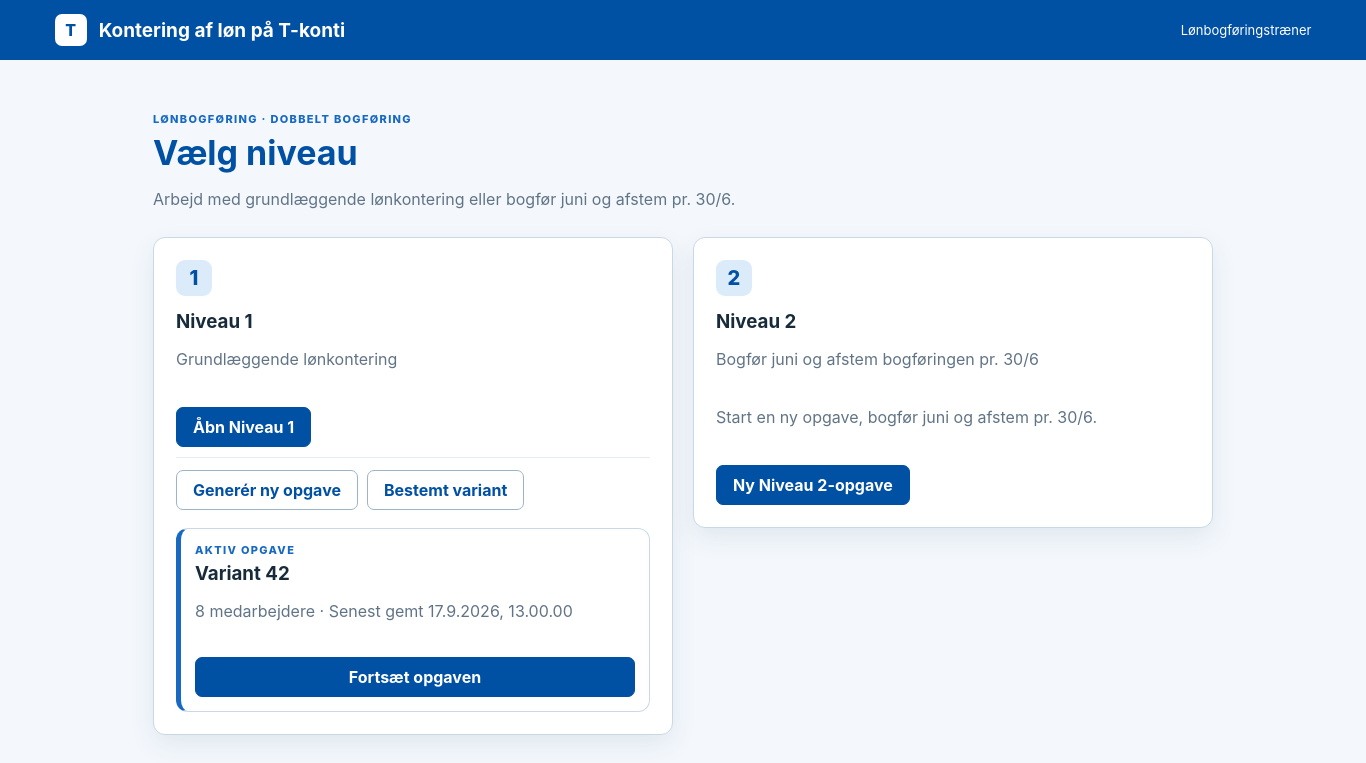
Test case: J3 bilag, kontoplan og video › viser variant 42-lønbilaget med dansk formatering og fortegn
Step 1. Click the button "Fortsæt opgaven" → (415, 677), box [195,657,635,697]
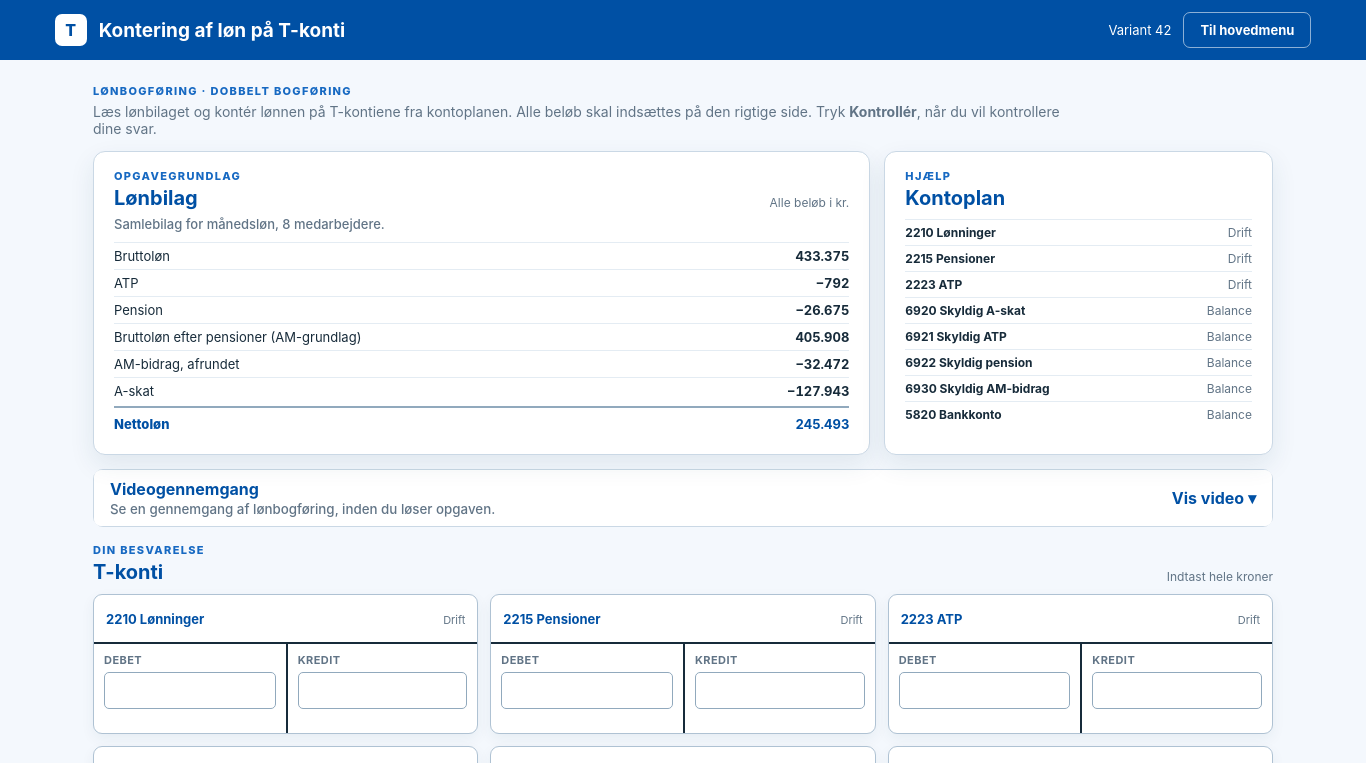
Now the text "433.375" is shown, box [795,248,849,264]
Now the text "−792" is shown, box [816,275,849,291]
Now the text "−26.675" is shown, box [795,302,849,318]
